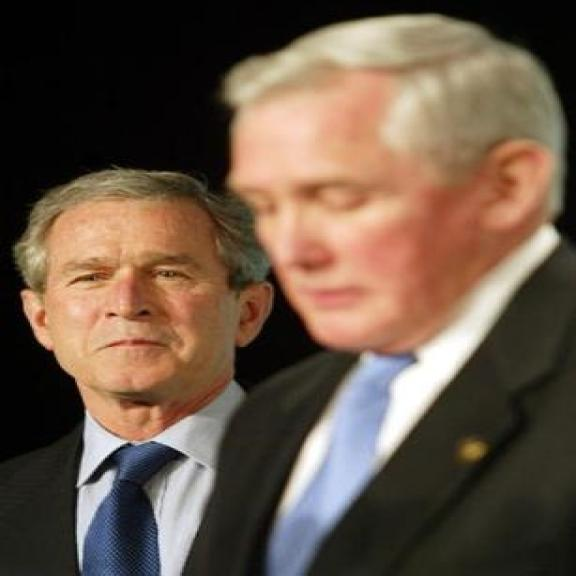face: (230, 84, 556, 352), (16, 200, 274, 403)
